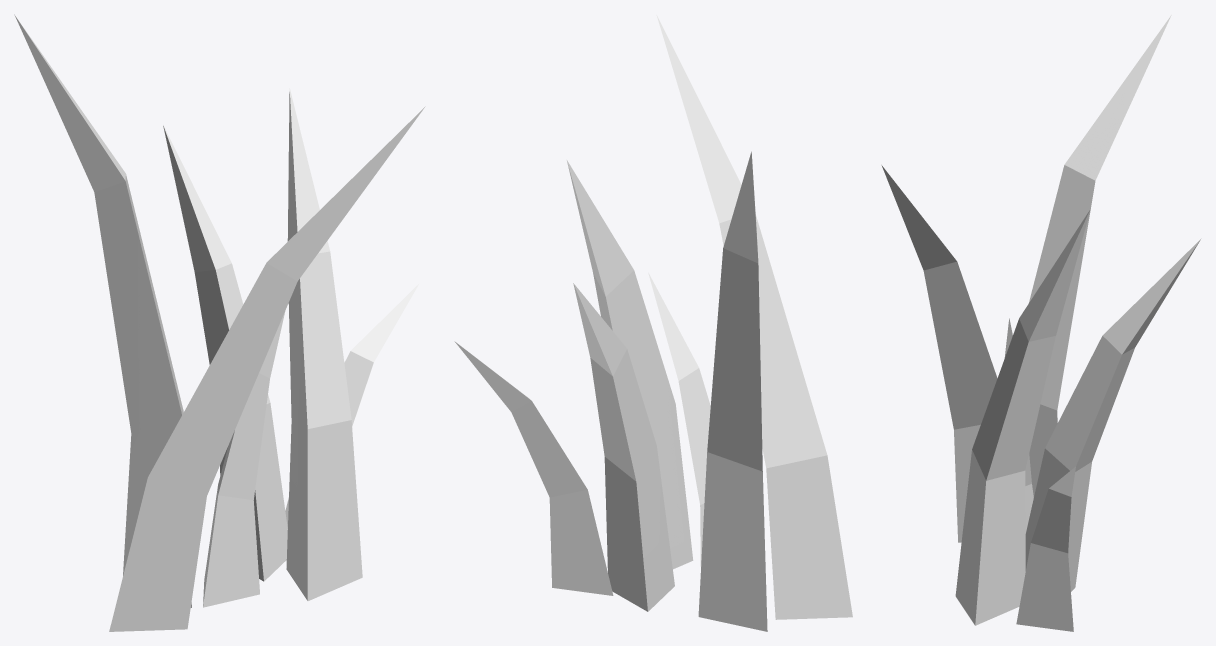
The model's file is grass.fbx.
3 views of the same model, side by side, from view 1: azimuth 30°, elevation 25°; view 2: azimuth 150°, elevation 25°; view 3: azimuth 270°, elevation 25° (orthographic). The views are drawn at different scales.
Visible parts, largest first — view 1: Grass C.011; view 2: Grass C.011; view 3: Grass C.011.
Boxes of the visible parts, x1,y1,x2,y2 form: Grass C.011: (14,14,425,631); Grass C.011: (454,15,852,631); Grass C.011: (881,15,1201,631).
Bounding box in the file's own units: 11.62 × 16.91 × 9.77.
